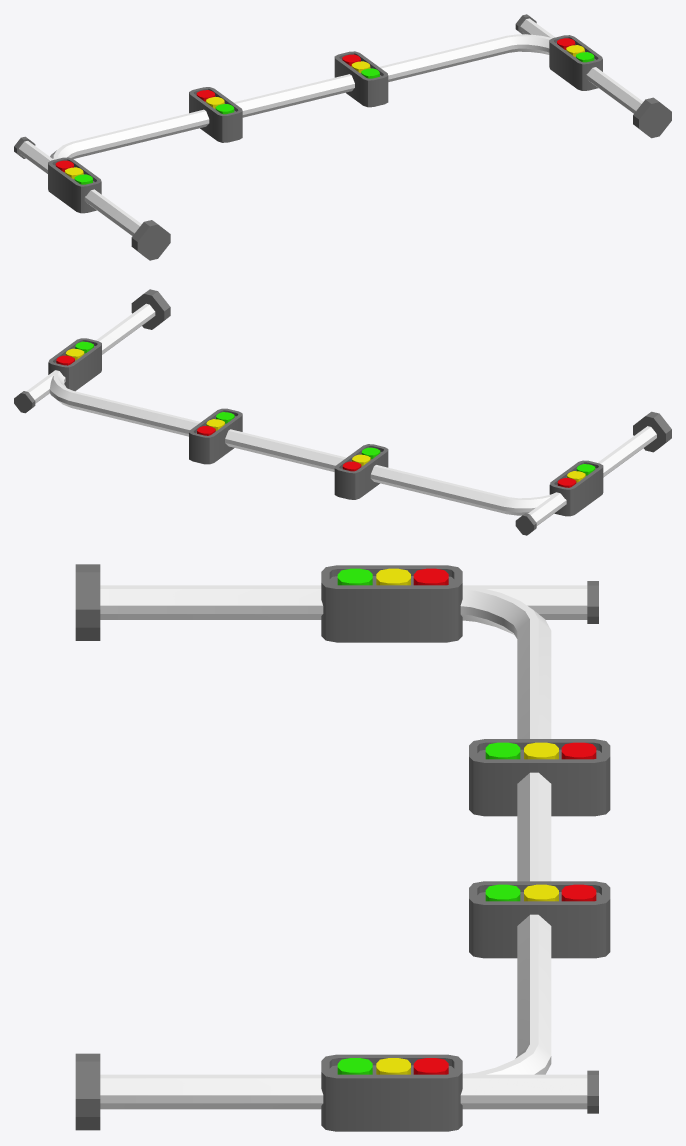
The model's file is P_TrafficSignal01.fbx.
3 views of the same model, one above another, from view 1: azimuth 30°, elevation 25°; view 2: azimuth 150°, elevation 25°; view 3: azimuth 270°, elevation 25° (orthographic). The views are drawn at different scales.
Parts seen in each view (by area): view 1: TrafficLight_type02_02; view 2: TrafficLight_type02_02; view 3: TrafficLight_type02_02.
Part boxes in pixels (box(x1,y1,x2,y2)): TrafficLight_type02_02: box(14, 14, 671, 260); TrafficLight_type02_02: box(14, 289, 671, 535); TrafficLight_type02_02: box(75, 564, 610, 1131).
Bounding box in the file's own units: 1046 × 64.28 × 453.
